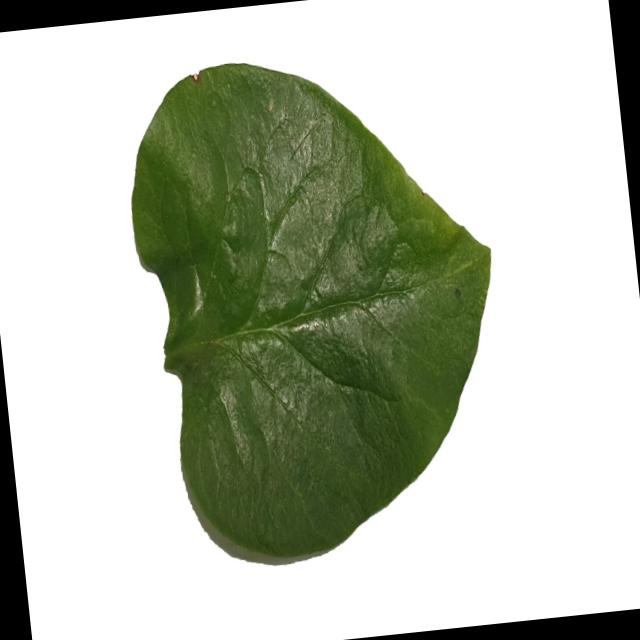Medicinal-Basale: (114, 38, 520, 573)
